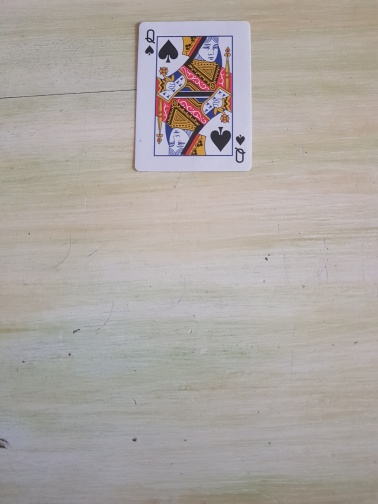queen: (131, 19, 254, 173)
